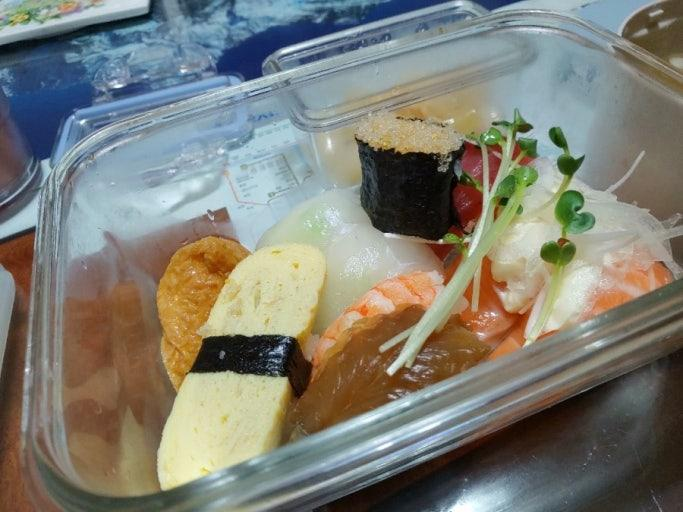Bottle: (0, 87, 41, 226)
Lunch Box: (21, 10, 682, 511), (262, 0, 536, 186)
